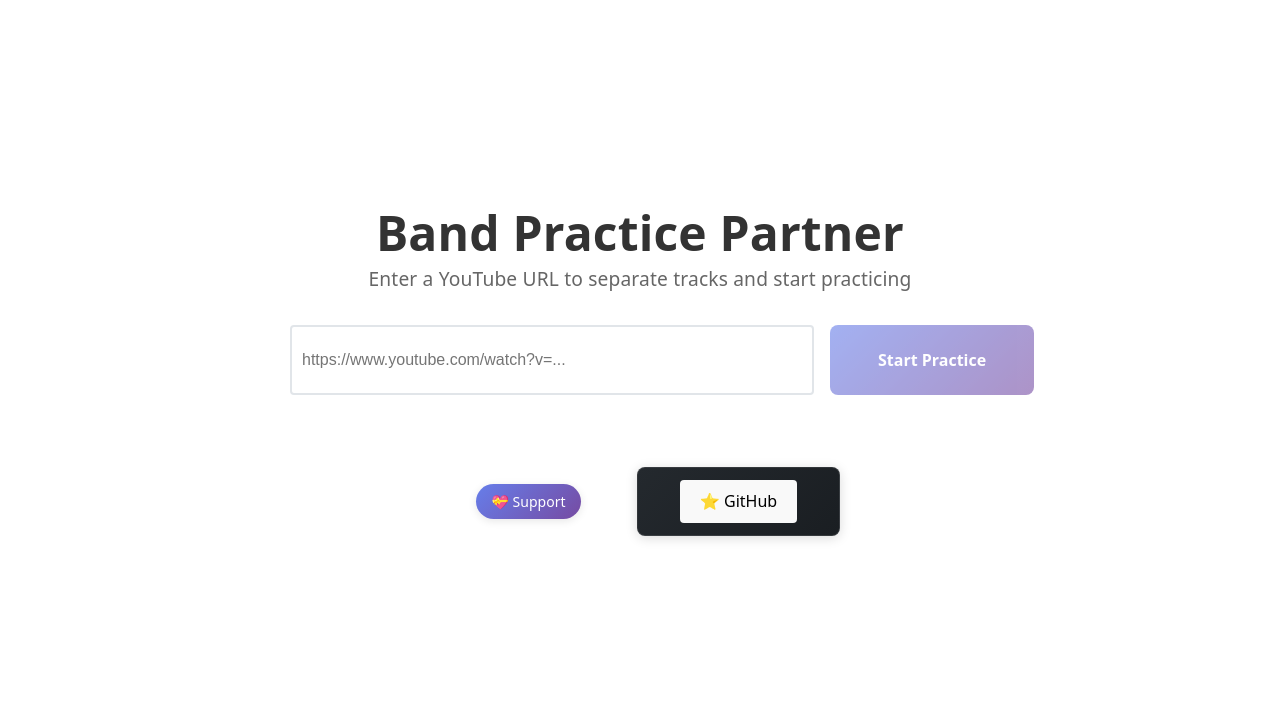
Scenario: MainPage › validates YouTube URLs and shows error for invalid URLs
// Test invalid URL
Type "not-a-youtube-url" into the field with placeholder "https://www.youtube.com/watch?v=..." at [552, 360], box [290, 325, 814, 395]
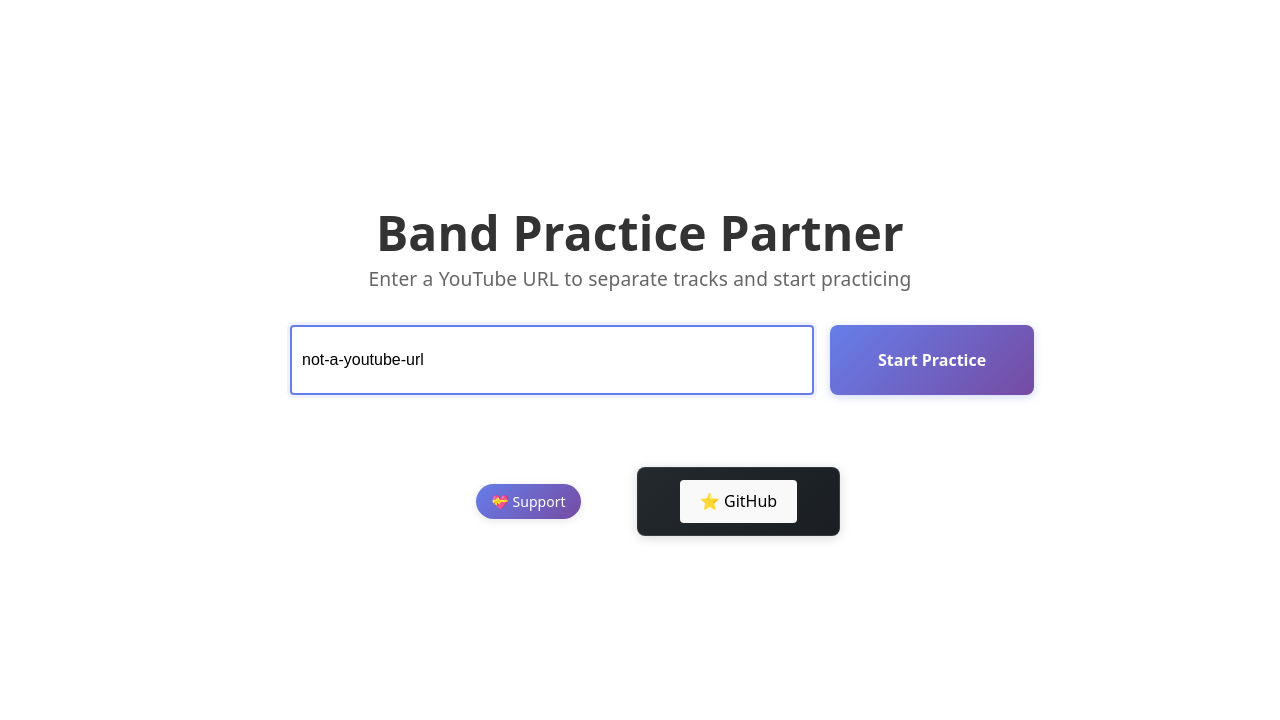
Submit the form with placeholder "https://www.youtube.com/watch?v=...", box [290, 325, 990, 411]
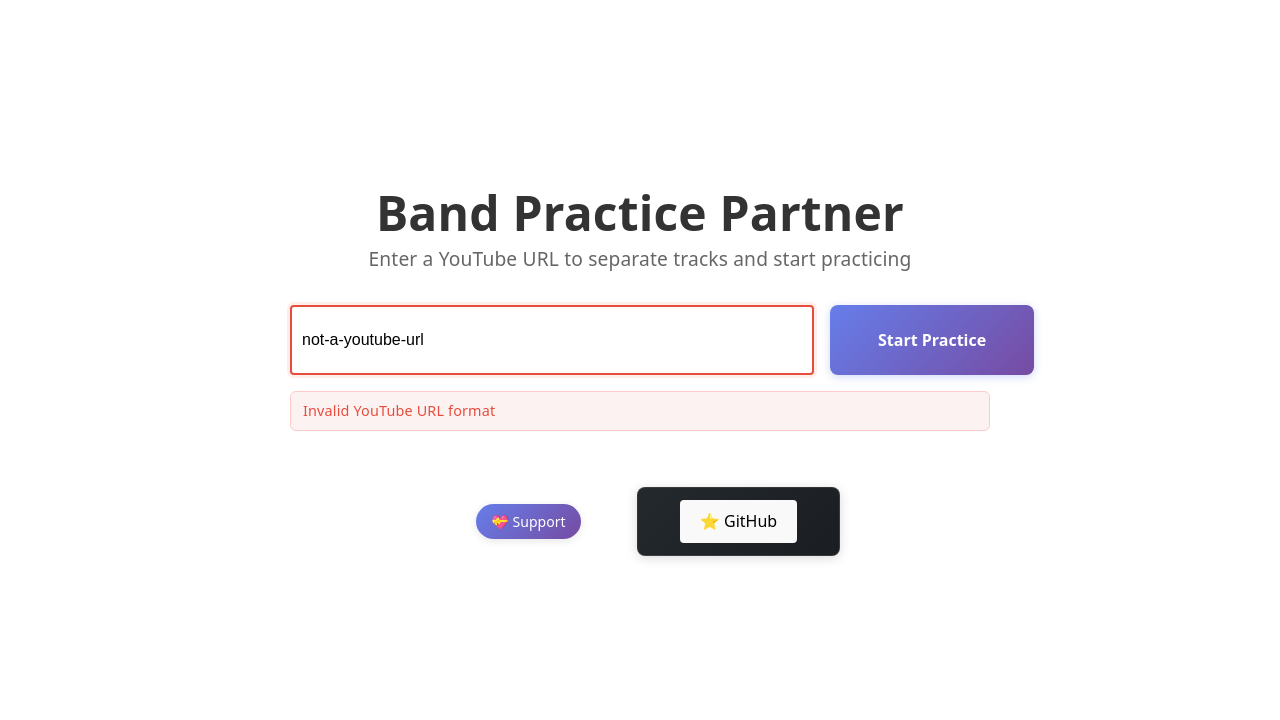
Expected: the text "Invalid YouTube URL format" is shown, [290, 391, 990, 430]
